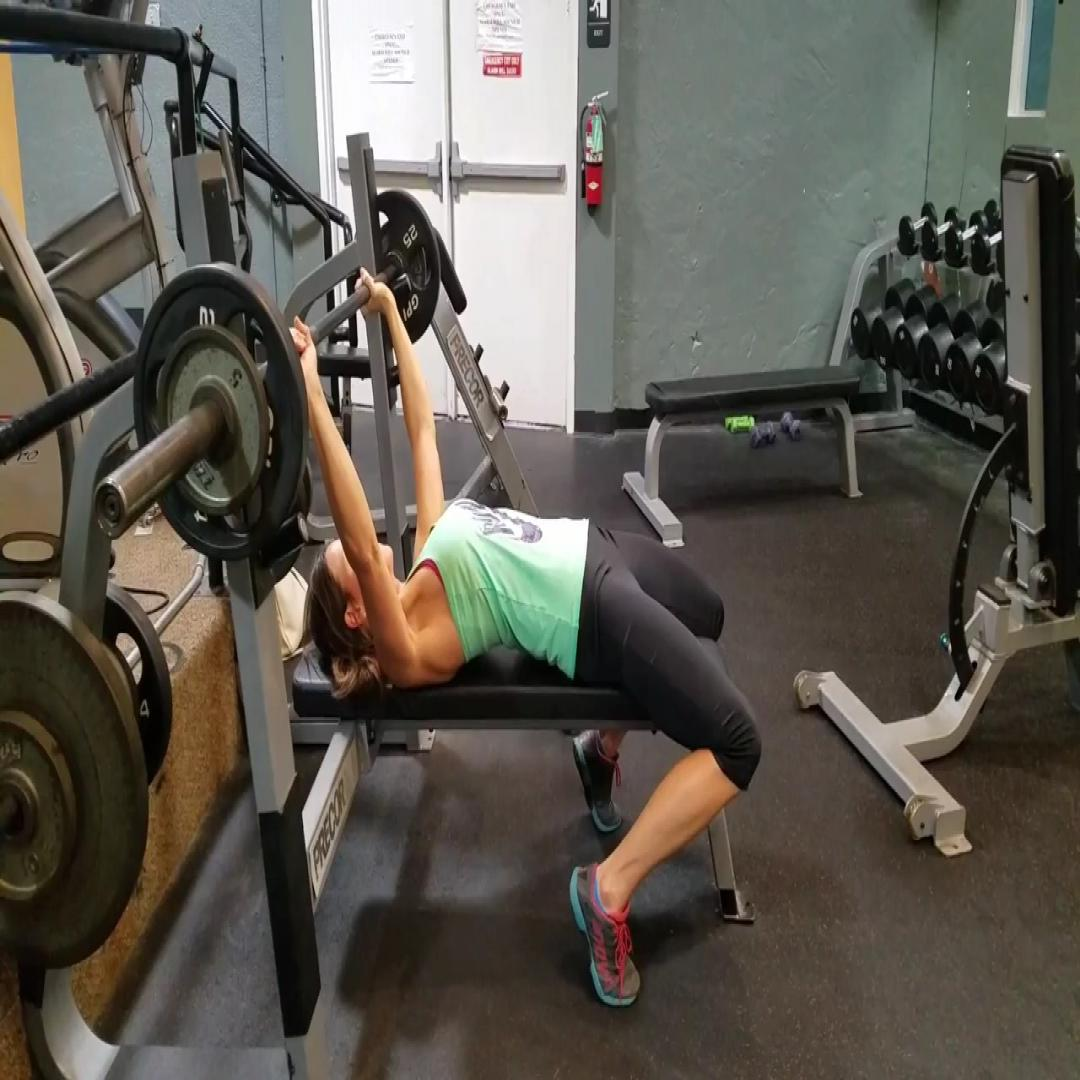Bar: (92, 473, 130, 543)
Barbell: (132, 264, 306, 560)
